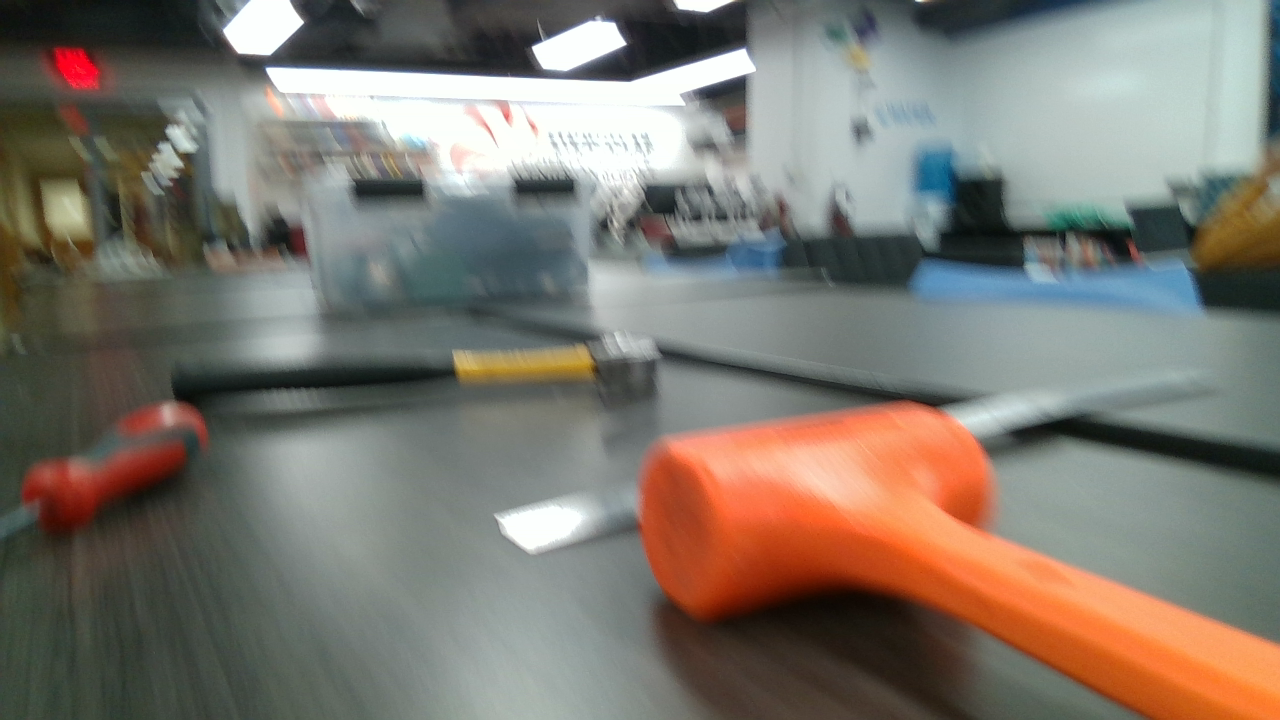Orange Hammer: (637, 399, 1273, 718)
